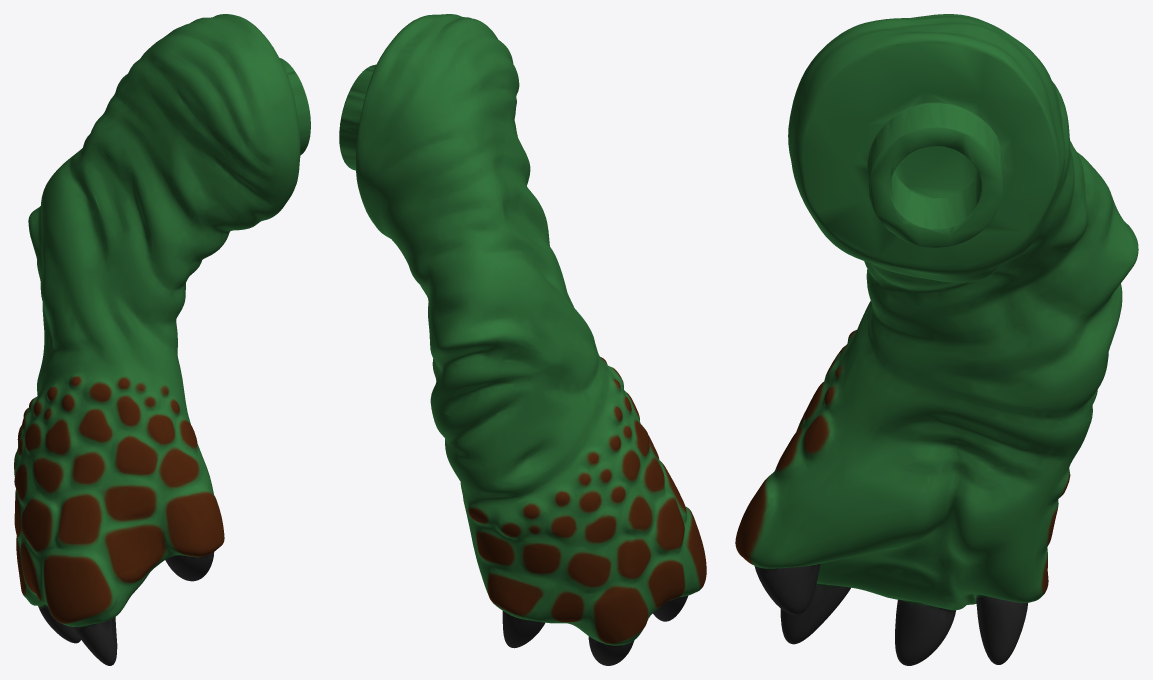
File: Bras_Tortue_rg.glb
3 renders of one model, left to right at view 1: azimuth 30°, elevation 25°; view 2: azimuth 150°, elevation 25°; view 3: azimuth 270°, elevation 25°, orthographic. The views are drawn at different scales.
Visible parts, largest first — view 1: Bras_Turle_rg; view 2: Bras_Turle_rg; view 3: Bras_Turle_rg.
Boxes of the visible parts, x1=… form: Bras_Turle_rg: x1=14, y1=14, x2=310, y2=665; Bras_Turle_rg: x1=339, y1=14, x2=706, y2=665; Bras_Turle_rg: x1=735, y1=14, x2=1138, y2=665.
Size of the model in its own units: 2.67 by 5.26 by 2.58.
